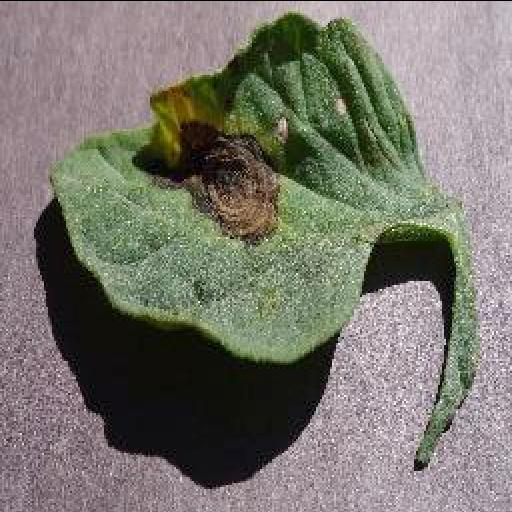disease_tomato: (48, 16, 430, 358)
